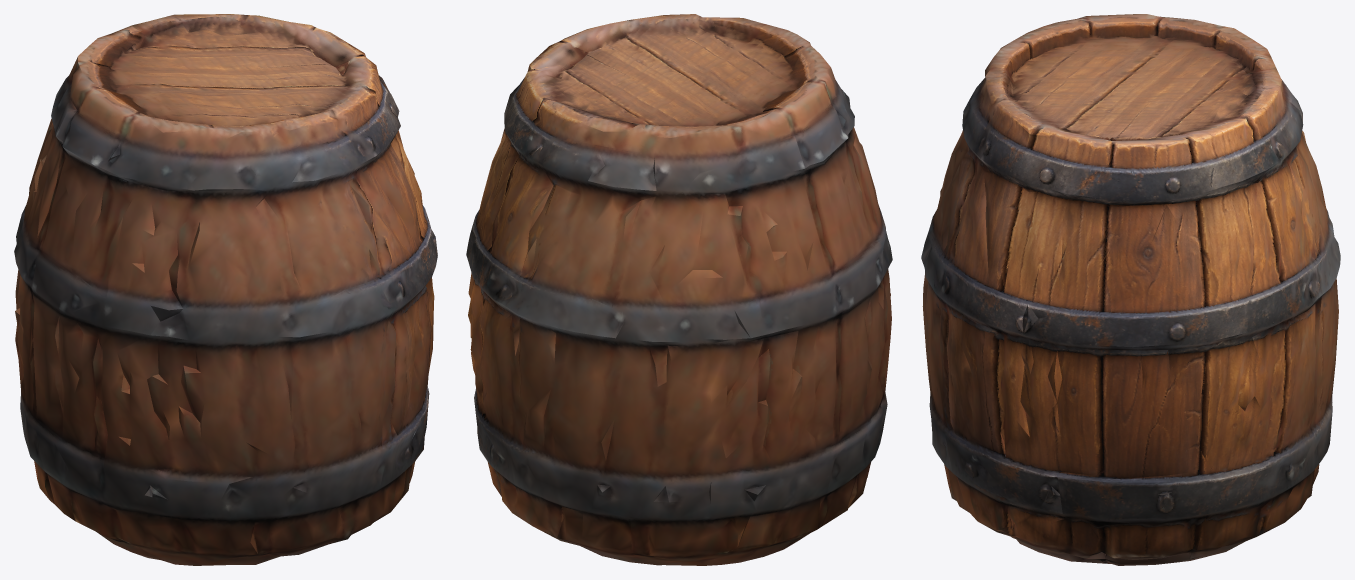
File: barrel_tsr.glb
3 renders of one model, left to right at view 1: azimuth 30°, elevation 25°; view 2: azimuth 150°, elevation 25°; view 3: azimuth 270°, elevation 25°, orthographic.
Visible parts, largest first — view 1: Barrel; view 2: Barrel; view 3: Barrel.
Part boxes in pixels (box(x1,y1,x2,y2)): Barrel: box(14, 14, 437, 565); Barrel: box(466, 14, 892, 565); Barrel: box(921, 14, 1340, 565).
Size of the model in its own units: 0.7605 by 0.8986 by 0.762.
Materials: 1 (1 with a texture image).
